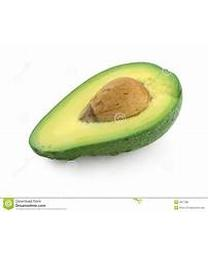avocado: (28, 62, 183, 161)
